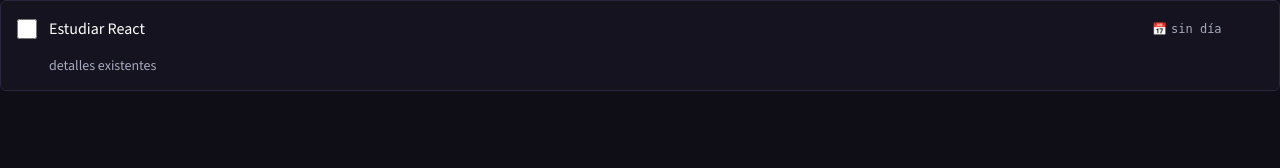
Test: TaskItem › description › al hacer doble click sobre la descripción entra en modo edición
The image size is (1280, 168).
Double-click the button with aria-label "editar detalles" at coordinates (103, 66), box [49,55,1263,78]
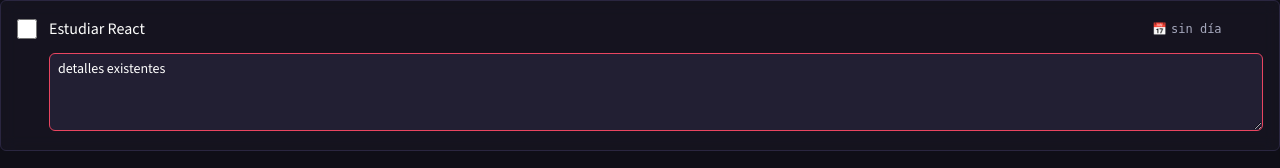
Expected: the text box named "editar detalles" is shown, [49,53,1263,131]
